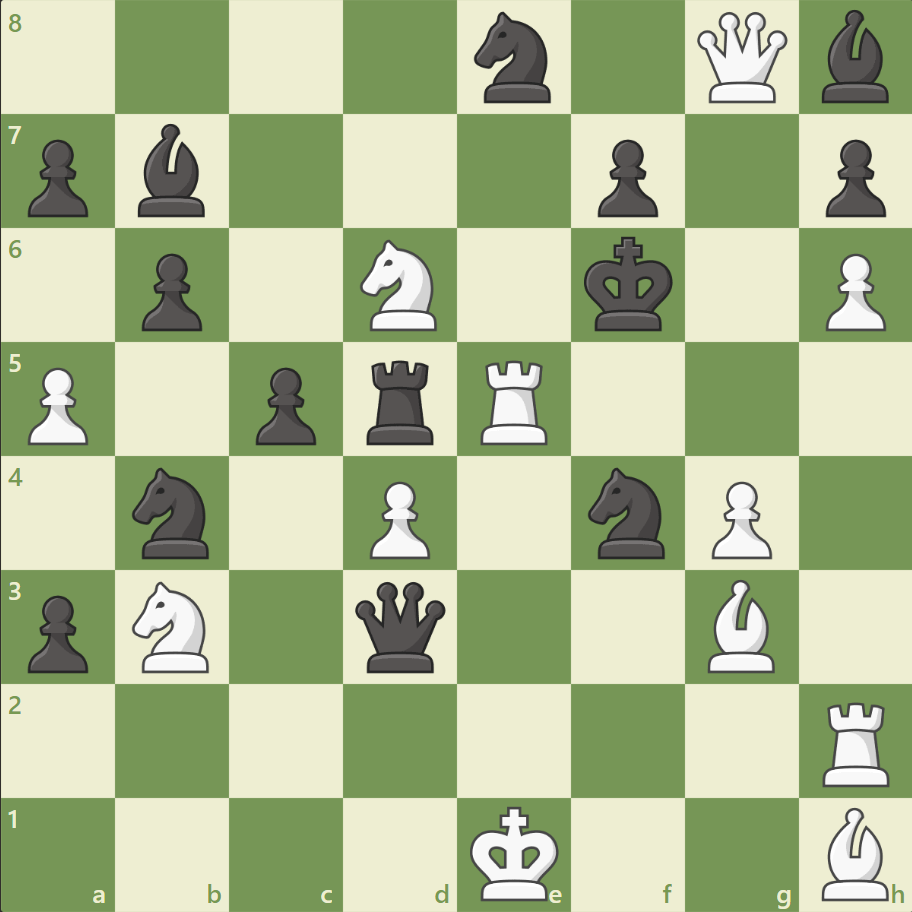B: (812, 801, 896, 904), (698, 574, 782, 676)
K: (465, 798, 565, 906)
N: (351, 234, 449, 337), (124, 575, 222, 677)
P: (20, 359, 95, 450), (701, 473, 776, 564), (815, 246, 889, 337), (361, 473, 435, 564)
Q: (691, 9, 790, 108)
R: (473, 352, 556, 449), (814, 693, 897, 790)
b: (812, 6, 896, 109), (131, 120, 215, 222)
k: (579, 231, 679, 339)
n: (124, 461, 222, 564), (465, 7, 562, 110), (579, 461, 676, 564)
p: (20, 132, 95, 223), (133, 246, 208, 337), (247, 359, 322, 450), (20, 586, 95, 677), (588, 132, 662, 223), (815, 132, 889, 223)
q: (351, 576, 450, 676)
r: (360, 352, 442, 449)
